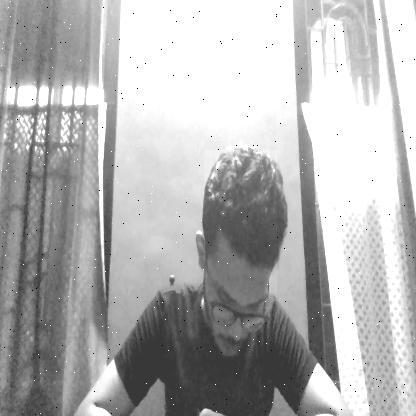Distracted: (204, 150, 277, 356)
